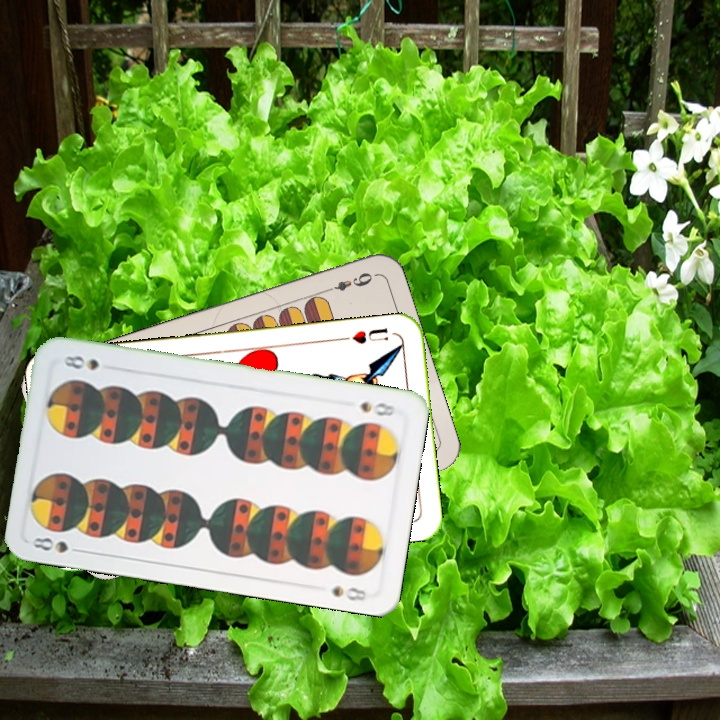E9: (320, 268, 375, 295)
HU: (348, 324, 391, 346)
S8: (28, 533, 87, 558), (356, 397, 400, 419)
